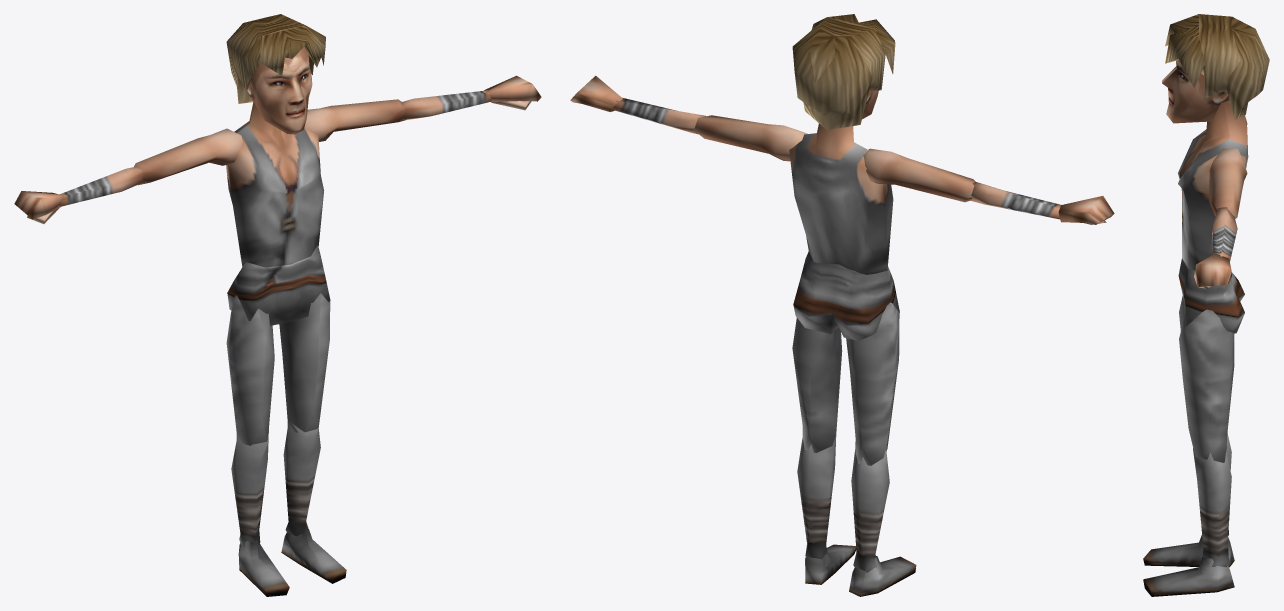
Rendered from Zak.obj.
3 renders of one model, left to right at view 1: azimuth 30°, elevation 25°; view 2: azimuth 150°, elevation 25°; view 3: azimuth 270°, elevation 25°, orthographic. The views are drawn at different scales.
Parts seen in each view (by area): view 1: rl3_geom; view 2: rl3_geom; view 3: rl3_geom.
Part boxes in pixels (x1=…): rl3_geom: x1=14, y1=14, x2=541, y2=596; rl3_geom: x1=570, y1=14, x2=1114, y2=596; rl3_geom: x1=1143, y1=14, x2=1269, y2=596.
Size of the model in its own units: 1.09 by 1.1 by 0.2277.
